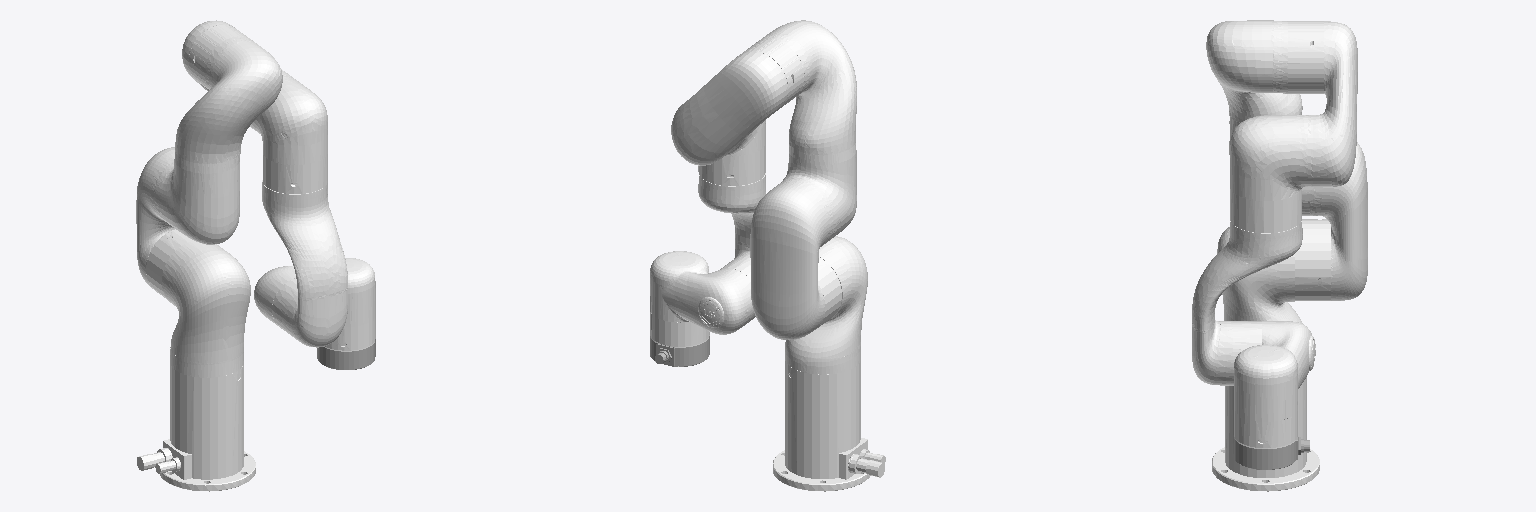
robot.urdf — xarm6:
<?xml version="1.0" encoding="utf-8"?>
<!-- =================================================================================== -->
<!-- |    This document was autogenerated by xacro from xarm6_robot.urdf.xacro         | -->
<!-- |    EDITING THIS FILE BY HAND IS NOT RECOMMENDED                                 | -->
<!-- =================================================================================== -->
<robot name="xarm6">

    <!--
      Material colors
    -->

    <!-- Basic colors -->
  <material name="Black">
    <color rgba="0.0 0.0 0.0 1.0"/>
  </material>
  <material name="Red">
    <color rgba="0.8 0.0 0.0 1.0"/>
  </material>
  <material name="White">
    <color rgba="1.0 1.0 1.0 1.0"/>
  </material>
  <material name="Silver">
    <color rgba="0.753 0.753 0.753 1.0"/>
  </material>

  <!--
    Base
  -->

  <!-- Base link -->
  <link name="world"/>
  <joint name="world_joint" type="fixed">
    <parent link="world"/>
    <child link="link_base"/>
    <origin rpy="0 0 0" xyz="0 0 0"/>
  </joint>
  <link name="link_base">
    <visual>
      <geometry>
        <mesh filename="meshes/base.obj"/>
      </geometry>
      <origin rpy="0 0 0" xyz="0 0 0"/>
      <material name="White"/>
    </visual>
    <collision>
      <geometry>
        <mesh filename="meshes/base.obj"/>
      </geometry>
      <origin rpy="0 0 0" xyz="0 0 0"/>
    </collision>
    <inertial>
      <origin rpy="0 0 0" xyz="0.0 0.0 0.09103"/>
      <mass value="2.7"/>
      <inertia ixx="0.00494875" ixy="-3.5E-06" ixz="1.25E-05" iyy="0.00494174" iyz="1.67E-06" izz="0.002219"/>
    </inertial>
  </link>
  <link name="link1">
    <visual>
      <geometry>
        <mesh filename="meshes/link1.obj"/>
      </geometry>
      <origin rpy="0 0 0" xyz="0 0 0"/>
      <material name="White"/>
    </visual>
    <collision>
      <geometry>
        <mesh filename="meshes/link1.obj"/>
      </geometry>
      <origin rpy="0 0 0" xyz="0 0 0"/>
    </collision>
    <inertial>
      <origin rpy="0 0 0" xyz="-0.002 0.02692 -0.01332"/>
      <mass value="2.16"/>
      <inertia ixx="0.00539427" ixy="1.095E-05" ixz="1.635E-06" iyy="0.0048979" iyz="0.000793" izz="0.00311573"/>
    </inertial>
  </link>
  <joint name="joint1" type="revolute">
    <parent link="link_base"/>
    <child link="link1"/>
    <origin rpy="0 0 0" xyz="0 0 0.267"/>
    <axis xyz="0 0 1"/>
    <limit effort="50.0" lower="-6.28318530718" upper="6.28318530718" velocity="3.14"/>
    <dynamics damping="1.0" friction="1.0"/>
  </joint>
  <link name="link2">
    <visual>
      <geometry>
        <mesh filename="meshes/link2.obj"/>
      </geometry>
      <origin rpy="0 0 0" xyz="0 0 0"/>
      <material name="White"/>
    </visual>
    <collision>
      <geometry>
        <mesh filename="meshes/link2.obj"/>
      </geometry>
      <origin rpy="0 0 0" xyz="0 0 0"/>
    </collision>
    <inertial>
      <origin rpy="0 0 0" xyz="0.03531 -0.21398 0.03386"/>
      <mass value="1.71"/>
      <inertia ixx="0.0248674" ixy="-0.00430651" ixz="-0.00067797" iyy="0.00485548" iyz="0.00457245" izz="0.02387827"/>
    </inertial>
  </link>
  <joint name="joint2" type="revolute">
    <parent link="link1"/>
    <child link="link2"/>
    <origin rpy="-1.5708 0 0" xyz="0 0 0"/>
    <axis xyz="0 0 1"/>
    <limit effort="50.0" lower="-2.059" upper="2.0944" velocity="3.14"/>
    <dynamics damping="1.0" friction="1.0"/>
  </joint>
  <link name="link3">
    <visual>
      <geometry>
        <mesh filename="meshes/link3.obj"/>
      </geometry>
      <origin rpy="0 0 0" xyz="0 0 0"/>
      <material name="White"/>
    </visual>
    <collision>
      <geometry>
        <mesh filename="meshes/link3.obj"/>
      </geometry>
      <origin rpy="0 0 0" xyz="0 0 0"/>
    </collision>
    <inertial>
      <origin rpy="0 0 0" xyz="0.06781 0.10749 0.01457"/>
      <mass value="1.384"/>
      <inertia ixx="0.0053694" ixy="0.0014185" ixz="-0.00092094" iyy="0.0032423" iyz="-0.00169178" izz="0.00501731"/>
    </inertial>
  </link>
  <joint name="joint3" type="revolute">
    <parent link="link2"/>
    <child link="link3"/>
    <origin rpy="0 0 0" xyz="0.0535 -0.2845 0"/>
    <axis xyz="0 0 1"/>
    <limit effort="32.0" lower="-3.927" upper="0.19198" velocity="3.14"/>
    <dynamics damping="1.0" friction="1.0"/>
  </joint>
  <link name="link4">
    <visual>
      <geometry>
        <mesh filename="meshes/link4.obj"/>
      </geometry>
      <origin rpy="0 0 0" xyz="0 0 0"/>
      <material name="White"/>
    </visual>
    <collision>
      <geometry>
        <mesh filename="meshes/link4.obj"/>
      </geometry>
      <origin rpy="0 0 0" xyz="0 0 0"/>
    </collision>
    <inertial>
      <origin rpy="0 0 0" xyz="-0.00021 0.02578 -0.02538"/>
      <mass value="1.115"/>
      <inertia ixx="0.00439263" ixy="5.028E-05" ixz="1.374E-05" iyy="0.0040077" iyz="0.00045338" izz="0.00110321"/>
    </inertial>
  </link>
  <joint name="joint4" type="revolute">
    <parent link="link3"/>
    <child link="link4"/>
    <origin rpy="-1.5708 0 0" xyz="0.0775 0.3425 0"/>
    <axis xyz="0 0 1"/>
    <limit effort="32.0" lower="-6.28318530718" upper="6.28318530718" velocity="3.14"/>
    <dynamics damping="1.0" friction="1.0"/>
  </joint>
  <link name="link5">
    <visual>
      <geometry>
        <mesh filename="meshes/link5.obj"/>
      </geometry>
      <origin rpy="0 0 0" xyz="0 0 0"/>
      <material name="White"/>
    </visual>
    <collision>
      <geometry>
        <mesh filename="meshes/link5.obj"/>
      </geometry>
      <origin rpy="0 0 0" xyz="0 0 0"/>
    </collision>
    <inertial>
      <origin rpy="0 0 0" xyz="0.05428 0.01781 0.00543"/>
      <mass value="1.275"/>
      <inertia ixx="0.001202758" ixy="0.000492428" ixz="-0.00039147" iyy="0.0022876" iyz="-1.235E-04" izz="0.0026866"/>
    </inertial>
  </link>
  <joint name="joint5" type="revolute">
    <parent link="link4"/>
    <child link="link5"/>
    <origin rpy="1.5708 0 0" xyz="0 0 0"/>
    <axis xyz="0 0 1"/>
    <limit effort="32.0" lower="-1.69297" upper="3.14159265359" velocity="3.14"/>
    <dynamics damping="1.0" friction="1.0"/>
  </joint>
  <link name="link6">
    <visual>
      <geometry>
        <mesh filename="meshes/link6.obj"/>
      </geometry>
      <origin rpy="0 0 0" xyz="0 0 0"/>
      <material name="Silver"/>
    </visual>
    <collision>
      <geometry>
        <mesh filename="meshes/link6.obj"/>
      </geometry>
      <origin rpy="0 0 0" xyz="0 0 0"/>
    </collision>
    <inertial>
      <origin rpy="0 0 0" xyz="0 0.00064 -0.00952"/>
      <mass value="0.1096"/>
      <inertia ixx="4.5293E-05" ixy="0" ixz="0" iyy="4.8111E-05" iyz="0" izz="7.9715E-05"/>
    </inertial>
  </link>
  <joint name="joint6" type="revolute">
    <parent link="link5"/>
    <child link="link6"/>
    <origin rpy="-1.5708 0 0" xyz="0.076 0.097 0"/>
    <axis xyz="0 0 1"/>
    <limit effort="20.0" lower="-6.28318530718" upper="6.28318530718" velocity="3.14"/>
    <dynamics damping="1.0" friction="1.0"/>
  </joint>
</robot>

--- Facts derived from the render (not from the file) ---
Views: 3 orthographic renders of the robot side by side, from view 1: azimuth 30°, elevation 25°; view 2: azimuth 150°, elevation 25°; view 3: azimuth 270°, elevation 25°.
Robot: xarm6 — 8 links, 7 joints (6 revolute, 1 fixed); root link world; default pose: all joints at 0.
Visible links, largest first — view 1: link2, link1, link_base, link4, link3, link5, link6; view 2: link2, link3, link_base, link5, link1, link4, link6; view 3: link2, link3, link5, link4, link1, link_base, link6.
Boxes of the visible links, left/top/right/bottom form: link2: left=136, top=25, right=282, bottom=288; link1: left=146, top=229, right=250, bottom=377; link_base: left=137, top=364, right=255, bottom=491; link4: left=262, top=180, right=347, bottom=347; link3: left=182, top=20, right=327, bottom=193; link5: left=254, top=258, right=375, bottom=350; link6: left=317, top=339, right=375, bottom=369; link2: left=743, top=20, right=856, bottom=339; link3: left=671, top=51, right=787, bottom=185; link_base: left=773, top=361, right=885, bottom=491; link5: left=650, top=251, right=754, bottom=346; link1: left=785, top=236, right=867, bottom=374; link4: left=698, top=173, right=765, bottom=316; link6: left=650, top=335, right=709, bottom=366; link2: left=1206, top=20, right=1367, bottom=300; link3: left=1230, top=21, right=1357, bottom=232; link5: left=1234, top=321, right=1315, bottom=447; link4: left=1192, top=221, right=1302, bottom=385; link1: left=1217, top=219, right=1330, bottom=323; link_base: left=1212, top=377, right=1319, bottom=491; link6: left=1234, top=437, right=1309, bottom=469.
Bounding box of the posed robot: 0.3368 × 0.2052 × 0.5944 m (x, y, z).
Meshes: 7 distinct files referenced, 7 mesh visuals loaded (7 OBJ).